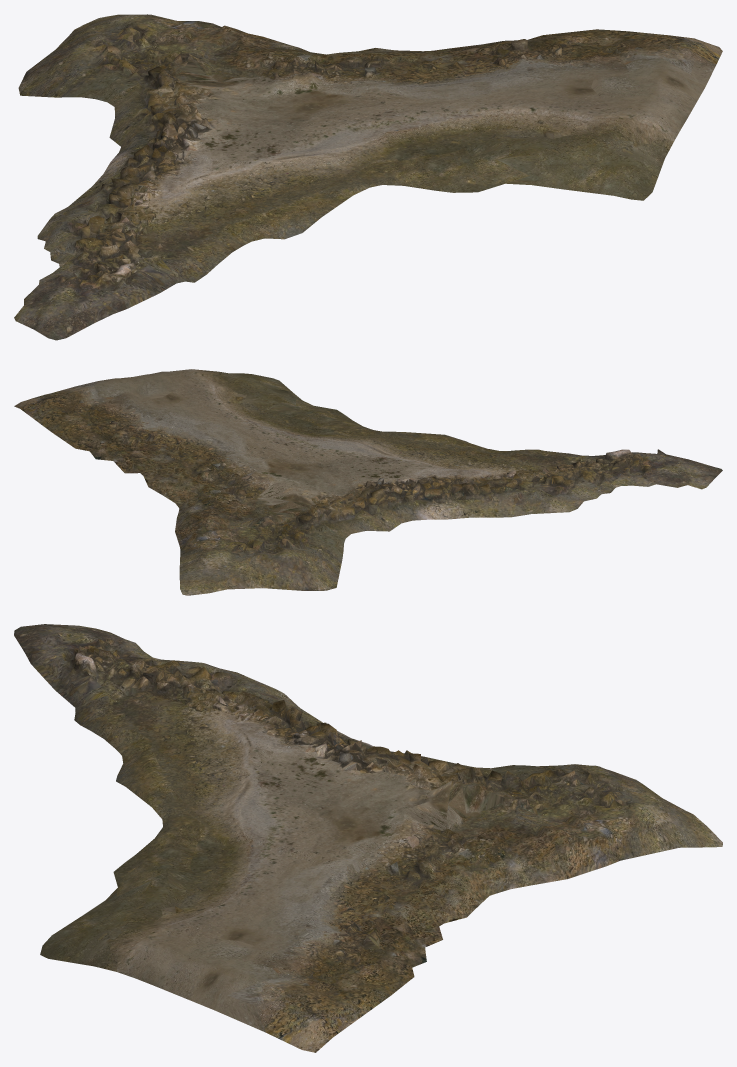
File: coast_rocks_01.fbx
3 views of the same model, one above another, from view 1: azimuth 30°, elevation 25°; view 2: azimuth 150°, elevation 25°; view 3: azimuth 270°, elevation 25° (orthographic). The views are drawn at different scales.
Parts seen in each view (by area): view 1: coast_rocks_01_LOD0; view 2: coast_rocks_01_LOD0; view 3: coast_rocks_01_LOD0.
Boxes of the visible parts, x1,y1,x2,y2 form: coast_rocks_01_LOD0: (14, 14, 722, 340); coast_rocks_01_LOD0: (14, 369, 722, 595); coast_rocks_01_LOD0: (14, 624, 722, 1052).
Size of what is drawn, in the model's own units: 59.5 by 3.24 by 42.52.
1 material, 1 textured.
